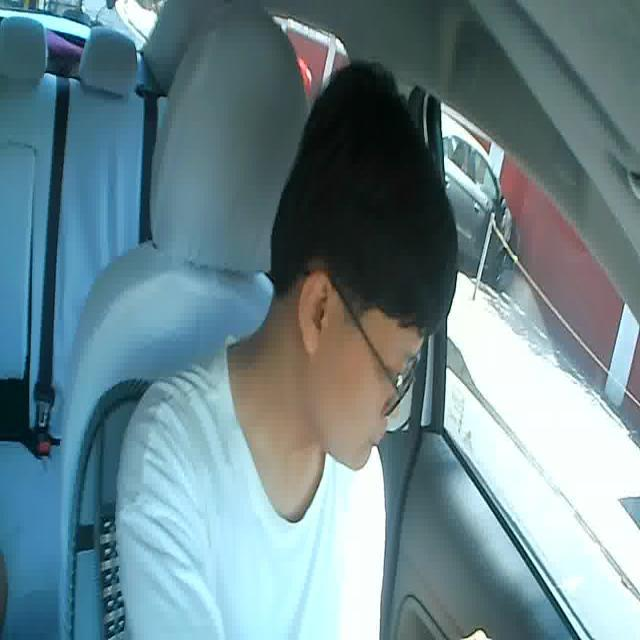Eye-Open: (381, 364, 413, 388)
Inattentive: (263, 59, 458, 472)
Normal: (363, 417, 389, 450)
